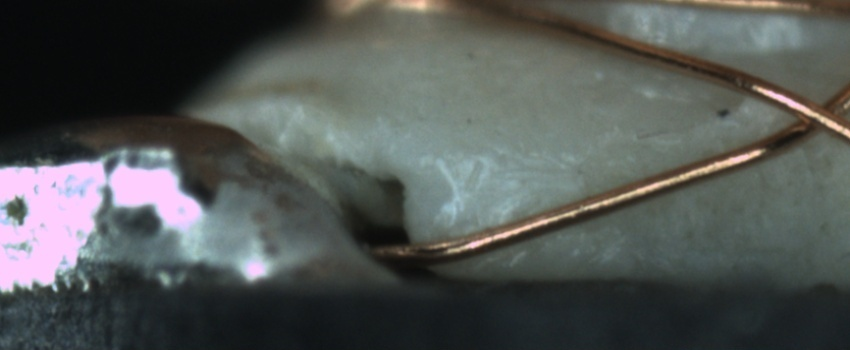CL: (773, 78, 850, 145)
